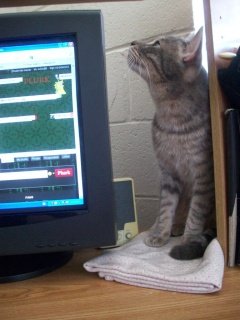Cat: (120, 25, 217, 259)
